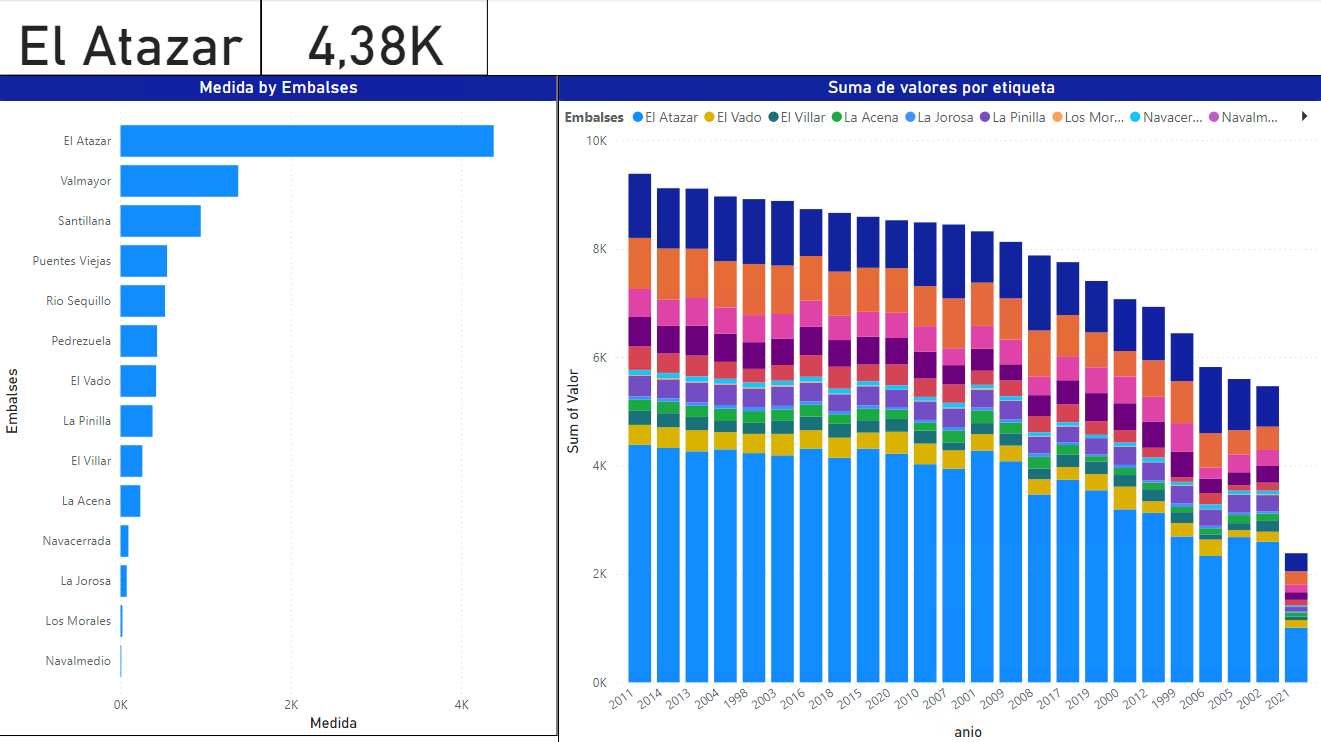

This screenshot's page, from the dashboard's own definition file:
{"tool":"powerbi","page":{"name":"Página 2","canvas":[1280,720],"ordinal":1},"visuals":[{"type":"columnChart","title":"Suma de valores por etiqueta","fields":{"Category":["nuevo_dataset1234 - copia.anio"],"Series":["nuevo_dataset1234 - copia.Embalses"],"Y":["Sum(nuevo_dataset1234 - copia.Valor)"]},"box":[541.2,73.7,738.6,646.5],"z":0},{"type":"card","title":"Total","fields":{"Values":["Min(nuevo_dataset1234 - copia.Embalses)"]},"box":[0,0,255.3,73.7],"z":1000},{"type":"card","title":"Total","fields":{"Values":["nuevo_dataset1234 - copia.Medida"]},"box":[255.3,0,219.3,73.7],"z":2000},{"type":"barChart","fields":{"Y":["nuevo_dataset1234 - copia.Medida"],"Category":["nuevo_dataset1234 - copia.Embalses"]},"box":[0,73.7,541.2,637.7],"z":3000}]}

Visuals, with their boxes in screenshot pixels (x1, y1, x2, y2), scaled from the page's 1280x720 canvas onto the 1321x742 screenshot:
"Suma de valores por etiqueta" columnChart: (left=559, top=76, right=1320, bottom=741)
"Total" card: (left=0, top=0, right=263, bottom=76)
"Total" card: (left=263, top=0, right=490, bottom=76)
barChart - nuevo_dataset1234 - copia.Medida x nuevo_dataset1234 - copia.Embalses: (left=0, top=76, right=559, bottom=733)
